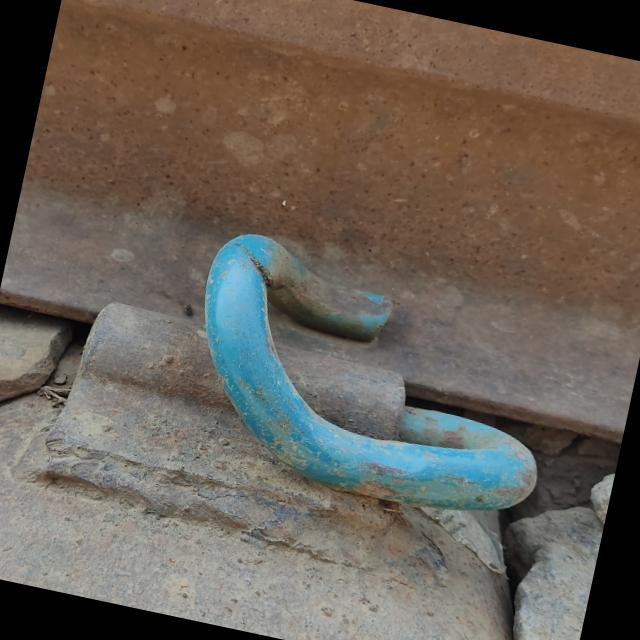track_bolt: (159, 217, 583, 539)
